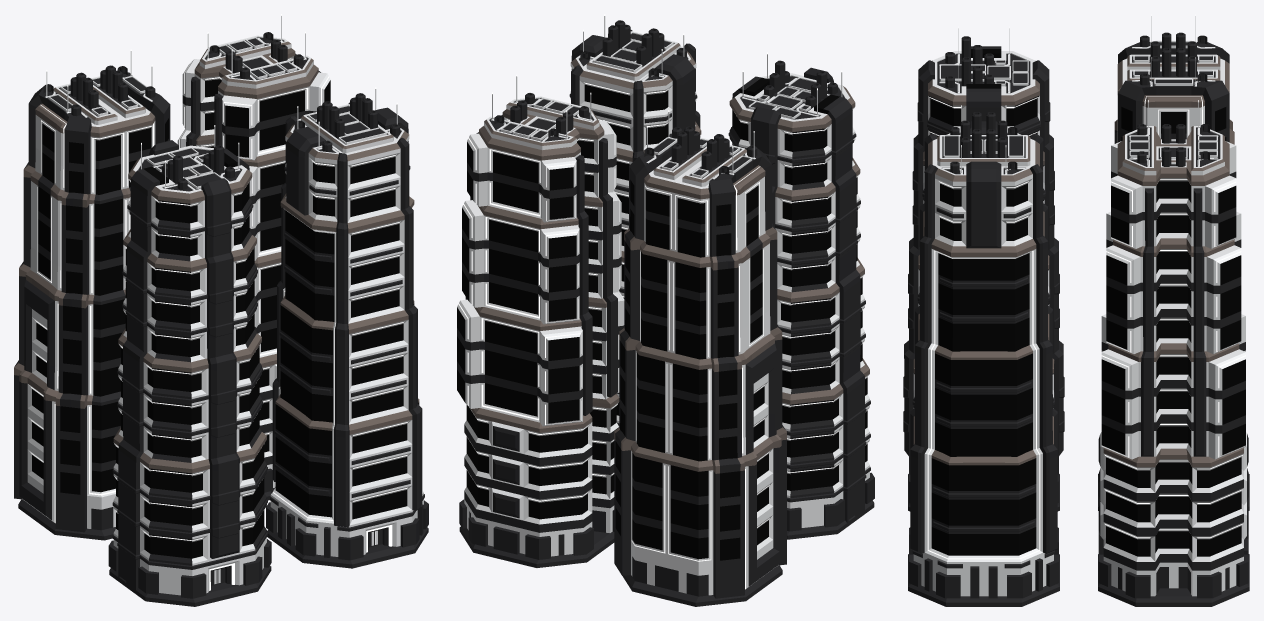
The picture shows the model from 3 angles, left to right: view 1: azimuth 30°, elevation 25°; view 2: azimuth 150°, elevation 25°; view 3: azimuth 270°, elevation 25°; orthographic projection. The views are drawn at different scales.
Visible parts, largest first — view 1: Apartment_lvl4_2_Body, Apartment_lvl4_1_Body, Apartment_lvl4_3_Body, Apartment_lvl4_4_Body, Apartment_lvl4_3_Parts, Apartment_lvl4_2_Parts, Apartment_lvl4_1_Parts, Apartment_lvl4_4_Parts, Apartment_lvl4_2_Foundation, Apartment_lvl4_1_Foundation, Apartment_lvl4_3_Foundation; view 2: Apartment_lvl4_3_Body, Apartment_lvl4_4_Body, Apartment_lvl4_1_Body, Apartment_lvl4_2_Body, Apartment_lvl4_3_Parts, Apartment_lvl4_2_Parts, Apartment_lvl4_1_Parts, Apartment_lvl4_4_Parts, Apartment_lvl4_3_Foundation, Apartment_lvl4_4_Foundation, Apartment_lvl4_1_Foundation; view 3: Apartment_lvl4_4_Body, Apartment_lvl4_2_Body, Apartment_lvl4_1_Body, Apartment_lvl4_3_Body, Apartment_lvl4_2_Parts, Apartment_lvl4_3_Parts, Apartment_lvl4_1_Parts, Apartment_lvl4_4_Parts, Apartment_lvl4_4_Foundation, Apartment_lvl4_2_Foundation.
Part boxes in pixels (x1,y1,x2,y2): Apartment_lvl4_2_Body: (266,102,428,560); Apartment_lvl4_1_Body: (108,140,271,598); Apartment_lvl4_3_Body: (14,72,170,532); Apartment_lvl4_4_Body: (177,35,330,492); Apartment_lvl4_3_Parts: (43,49,155,117); Apartment_lvl4_2_Parts: (294,87,400,152); Apartment_lvl4_1_Parts: (141,125,240,190); Apartment_lvl4_4_Parts: (206,14,306,80); Apartment_lvl4_2_Foundation: (267,527,428,568); Apartment_lvl4_1_Foundation: (109,566,271,606); Apartment_lvl4_3_Foundation: (18,499,115,540); Apartment_lvl4_3_Body: (614,133,786,598); Apartment_lvl4_4_Body: (457,96,624,559); Apartment_lvl4_1_Body: (728,67,874,531); Apartment_lvl4_2_Body: (569,30,701,426); Apartment_lvl4_3_Parts: (644,110,757,179); Apartment_lvl4_2_Parts: (580,14,686,80); Apartment_lvl4_1_Parts: (742,52,842,119); Apartment_lvl4_4_Parts: (491,74,592,141); Apartment_lvl4_3_Foundation: (622,565,782,606); Apartment_lvl4_4_Foundation: (459,526,614,567); Apartment_lvl4_1_Foundation: (787,500,874,539); Apartment_lvl4_4_Body: (1098,126,1248,598); Apartment_lvl4_2_Body: (909,121,1058,598); Apartment_lvl4_1_Body: (903,46,1064,503); Apartment_lvl4_3_Body: (1114,42,1234,144); Apartment_lvl4_2_Parts: (942,105,1025,174); Apartment_lvl4_3_Parts: (1132,14,1215,86); Apartment_lvl4_1_Parts: (939,26,1028,93); Apartment_lvl4_4_Parts: (1129,100,1218,166); Apartment_lvl4_4_Foundation: (1098,554,1249,606); Apartment_lvl4_2_Foundation: (908,554,1059,606).
Size of the model in its own units: 3654 by 5335 by 3650.
Materials: 1 (1 with a texture image).
